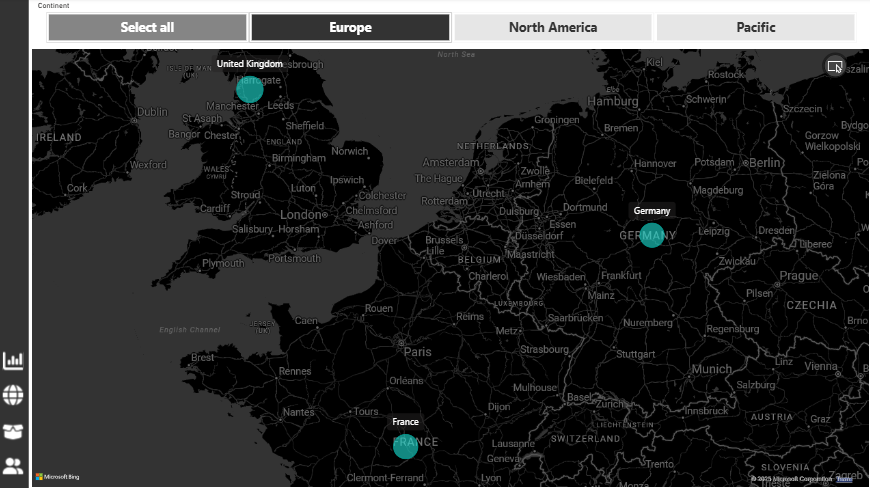

What the dashboard file says about the page in this screenshot:
{"tool":"powerbi","page":{"name":"Map","canvas":[1280,720],"ordinal":1},"visuals":[{"type":"shape","box":[0,0,45.4,720],"z":0},{"type":"actionButton","box":[2.9,512.2,45.4,38],"z":0,"group":"g1"},{"type":"actionButton","box":[2.9,562,45.4,38],"z":1000,"group":"g1"},{"type":"map","fields":{"Category":["Territory Lookup.Country"],"Size":["Measure Table.Total Orders"]},"box":[45.4,70.2,1235.1,649.8],"z":1000},{"type":"slicer","fields":{"Values":["Territory Lookup.Continent"]},"box":[45.4,0,1235.1,71.7],"z":2000},{"type":"actionButton","box":[2.9,616.1,45.4,38],"z":2000,"group":"g1"},{"type":"actionButton","box":[2.9,665.9,46.8,38],"z":3000,"group":"g1"},{"type":"group","id":"g1","title":"Navigation buttons ","box":[2.9,512.2,46.8,191.7],"z":3000}]}

Visuals, with their boxes on the page's 1280x720 design canvas (x1, y1, x2, y2). These are canvas units, not pixel positions in the 870x488 screenshot, which may show the page scaled, cropped or inside an application window:
shape: bbox=[0, 0, 45, 720]
actionButton: bbox=[3, 512, 48, 550]
actionButton: bbox=[3, 562, 48, 600]
map - Territory Lookup.Country x Measure Table.Total Orders: bbox=[45, 70, 1280, 720]
slicer - Territory Lookup.Continent: bbox=[45, 0, 1280, 72]
actionButton: bbox=[3, 616, 48, 654]
actionButton: bbox=[3, 666, 50, 704]
"Navigation buttons " group: bbox=[3, 512, 50, 704]
